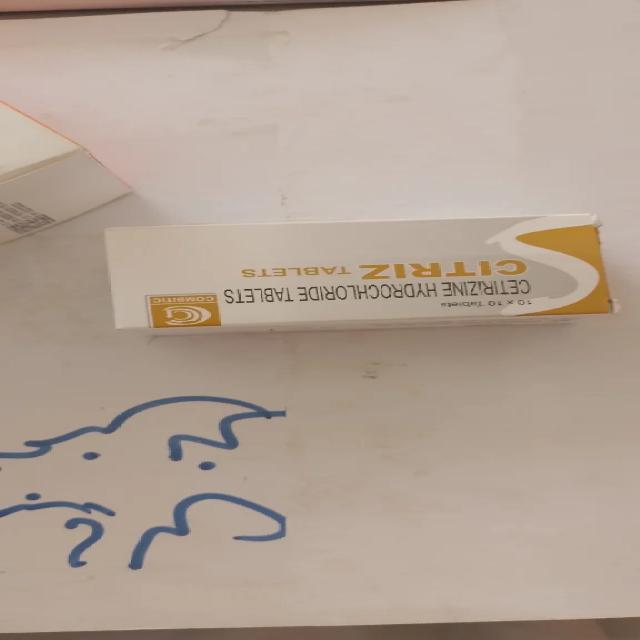drug-name: (356, 258, 530, 278)
